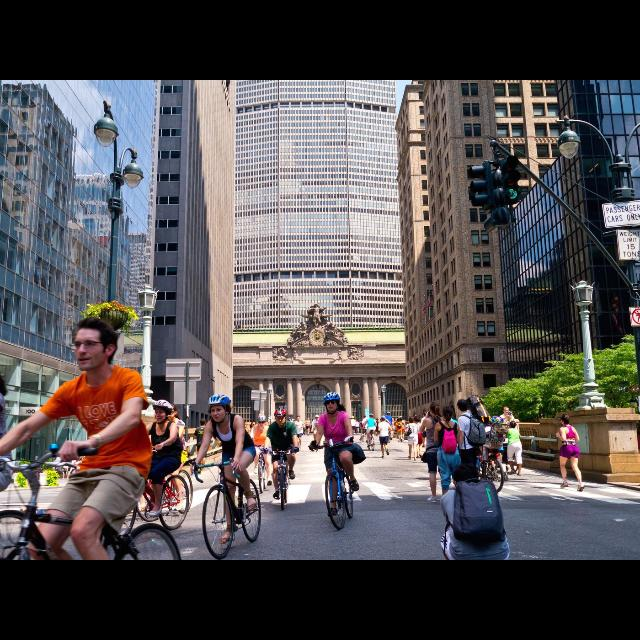head: (74, 324, 118, 372), (452, 464, 480, 492), (208, 394, 232, 424), (154, 403, 170, 423), (324, 394, 340, 414), (164, 404, 178, 421), (275, 410, 287, 426), (456, 399, 469, 413), (442, 406, 453, 420), (430, 402, 440, 416), (257, 416, 267, 428), (560, 414, 570, 424), (508, 421, 516, 429), (504, 406, 510, 416), (507, 412, 513, 421), (200, 418, 206, 426), (296, 416, 302, 422), (382, 416, 386, 422), (410, 417, 414, 423), (416, 416, 420, 422), (316, 416, 320, 420), (351, 416, 355, 420), (370, 414, 374, 418), (387, 412, 391, 416), (376, 418, 379, 422), (401, 417, 404, 421), (398, 419, 400, 423), (308, 418, 310, 420)
person: (189, 393, 259, 543), (119, 398, 183, 516), (312, 392, 360, 518), (143, 402, 190, 514), (262, 406, 302, 499), (454, 398, 488, 502), (433, 402, 465, 506), (420, 402, 452, 504), (556, 413, 586, 493), (246, 412, 274, 488), (502, 420, 524, 476), (192, 418, 212, 477), (504, 409, 522, 456), (498, 406, 516, 452), (377, 415, 393, 459), (406, 416, 420, 460), (362, 412, 378, 448), (310, 414, 324, 450), (412, 415, 423, 459), (292, 414, 304, 450), (382, 411, 394, 441), (397, 416, 408, 442), (394, 418, 404, 444), (349, 416, 357, 438), (304, 417, 312, 438), (374, 417, 380, 437)
